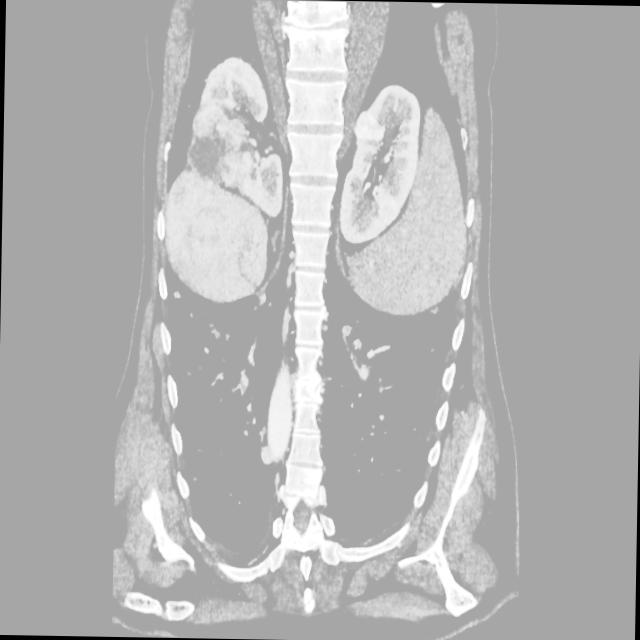TUMOR: (104, 91, 526, 448)
